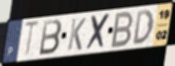B: (109, 10, 135, 50), (38, 19, 64, 57)
D: (132, 8, 155, 46)
K: (66, 17, 87, 52)
T: (23, 20, 42, 59)
X: (85, 12, 112, 52)
